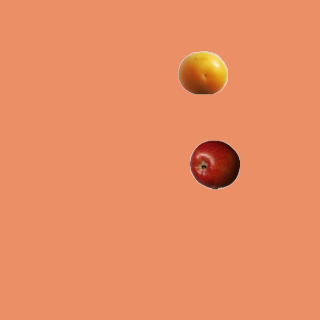Apple Braeburn: (189, 139, 239, 189)
Cherry Wax Yellow: (177, 47, 227, 97)
